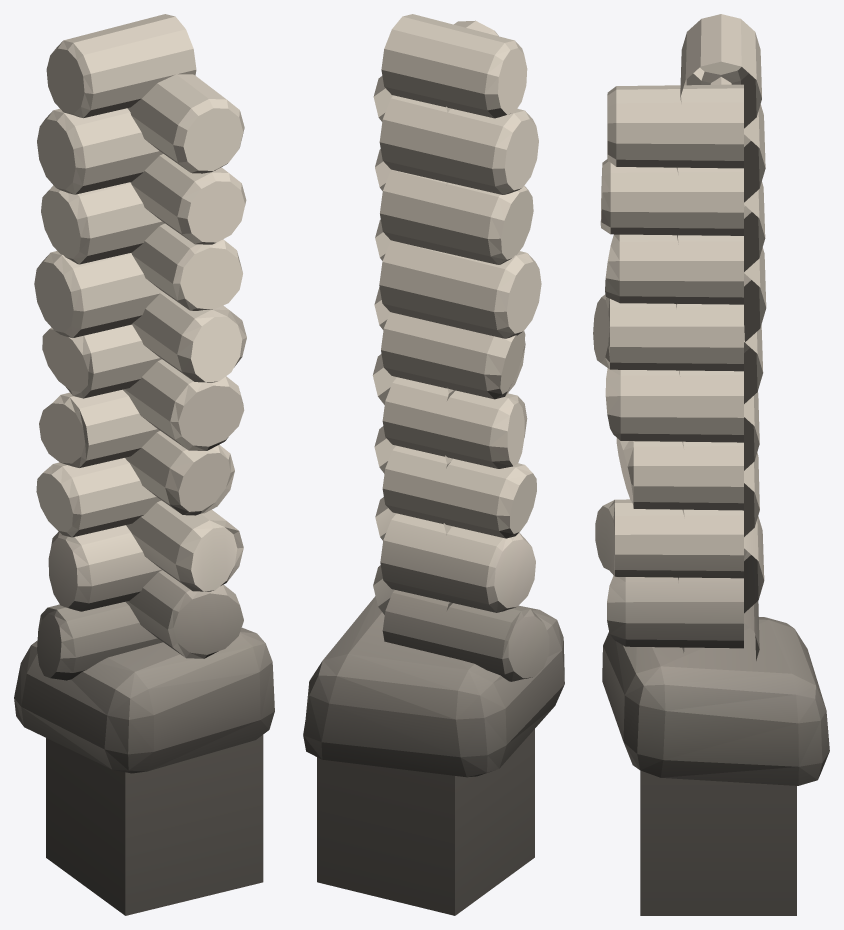
File: SM_VK_Corner_Log.fbx
3 views of the same model, side by side, from view 1: azimuth 30°, elevation 25°; view 2: azimuth 150°, elevation 25°; view 3: azimuth 270°, elevation 25° (orthographic). The views are drawn at different scales.
Parts seen in each view (by area): view 1: SM_VK_Corner_Log.001; view 2: SM_VK_Corner_Log.001; view 3: SM_VK_Corner_Log.001.
Part boxes in pixels (bbox=[...]): SM_VK_Corner_Log.001: bbox=[14, 14, 274, 915]; SM_VK_Corner_Log.001: bbox=[303, 14, 564, 915]; SM_VK_Corner_Log.001: bbox=[593, 14, 829, 915].
Size of the model in its own units: 0.8903 by 3.64 by 0.9384.
